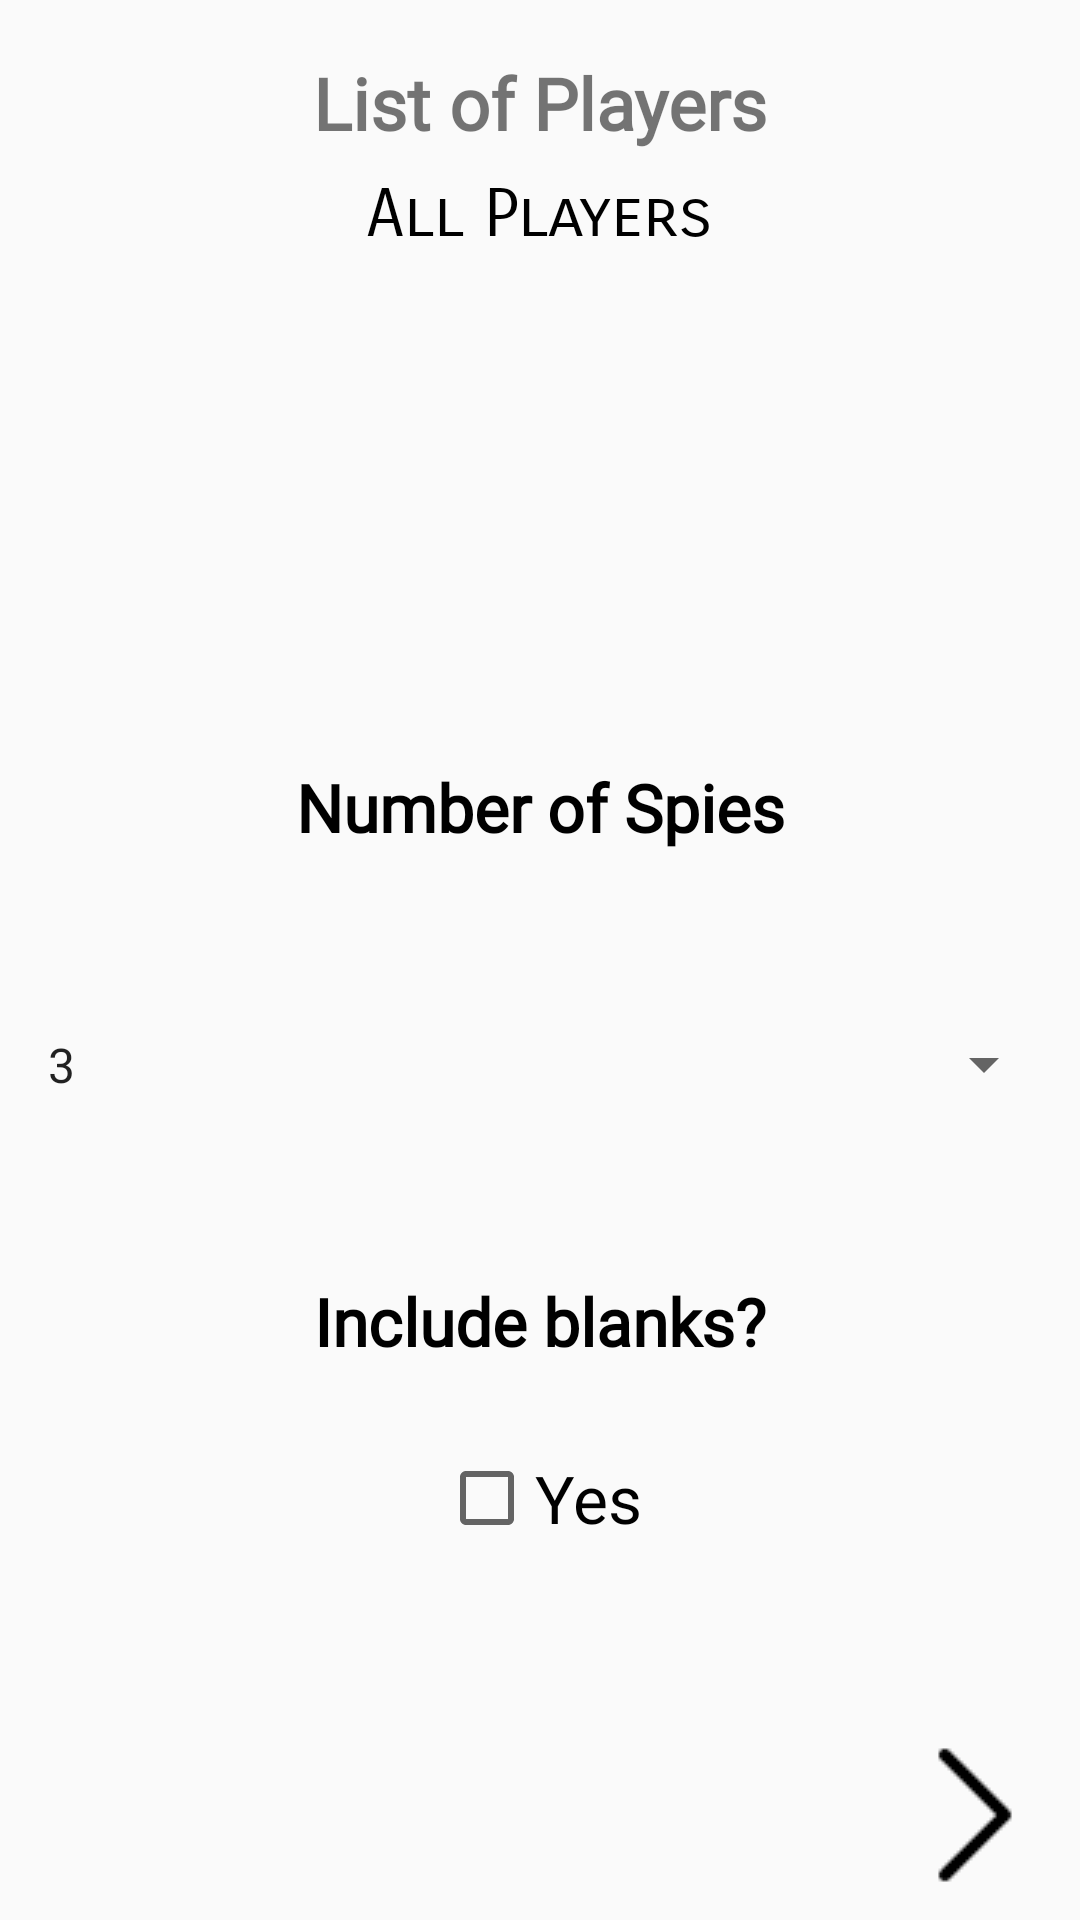

Screen size 1080w x 1920h. Icon name, then its box in pixels as (x1, y1, x2, y2):
next: (938, 1748, 1012, 1882)
